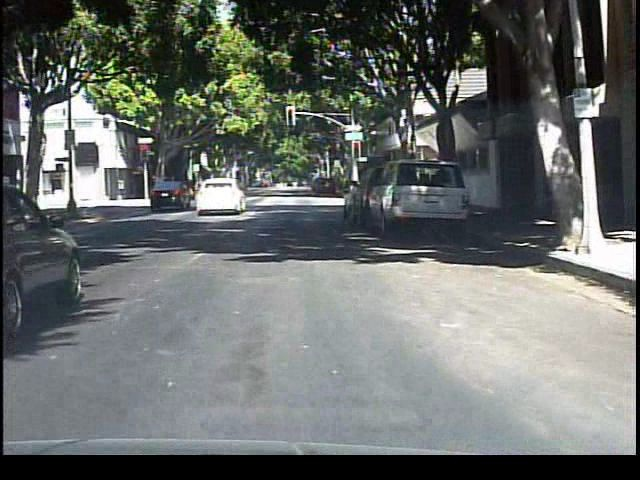person: (189, 170, 214, 214)
